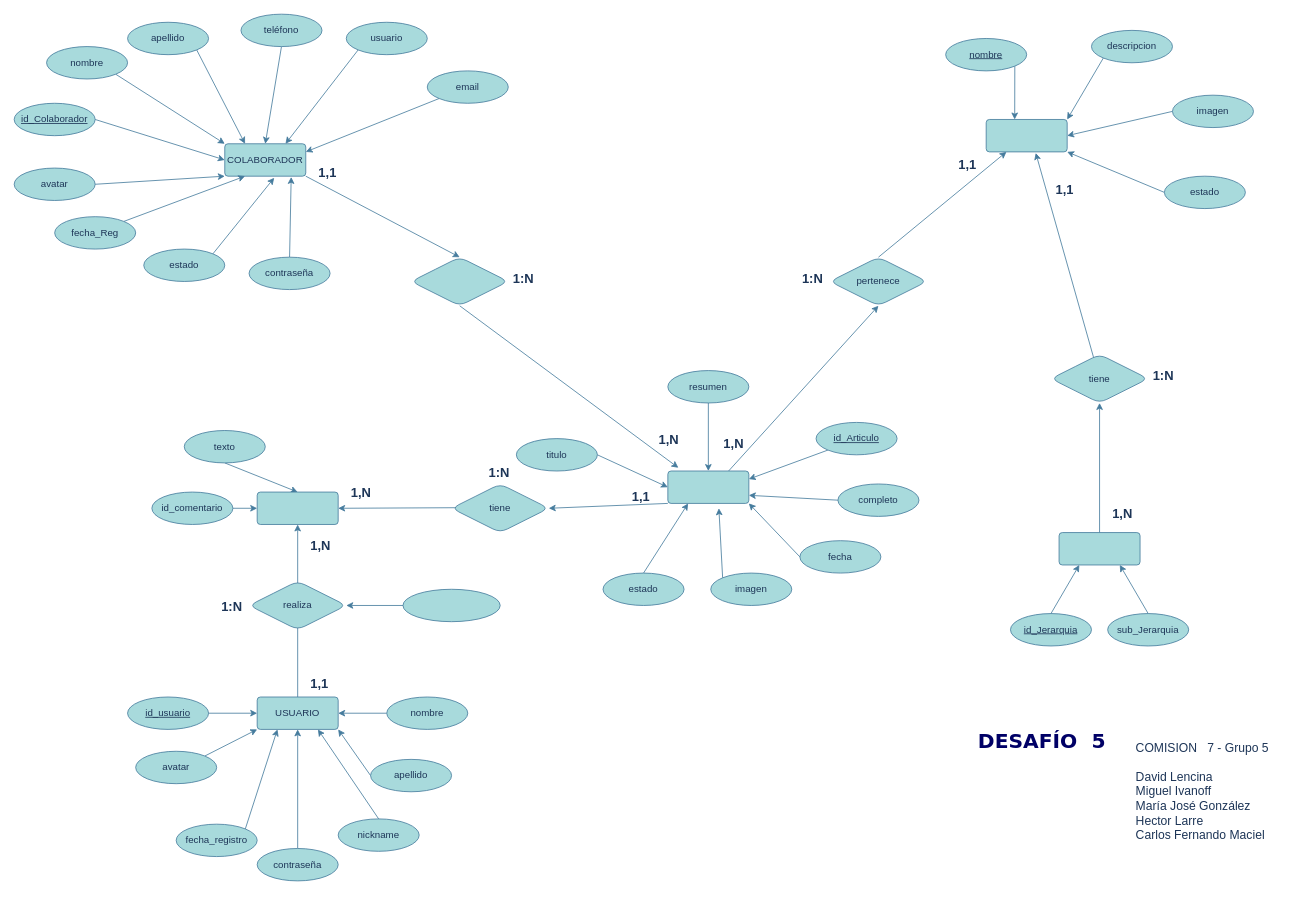
This 1309x919 diagram has some shape labels left out. The shapes that lost their labels are listed below. From the top down, each one's centre as x and y in pixels, then its label:
At (x=1026, y=135): "CATEGORIA".
At (x=459, y=281): "escribe".
At (x=708, y=486): "Articulo".
At (x=297, y=507): "COMENTARIO".
At (x=1099, y=548): "SUBCATEGORIA".
At (x=451, y=605): "fecha_comentario".
